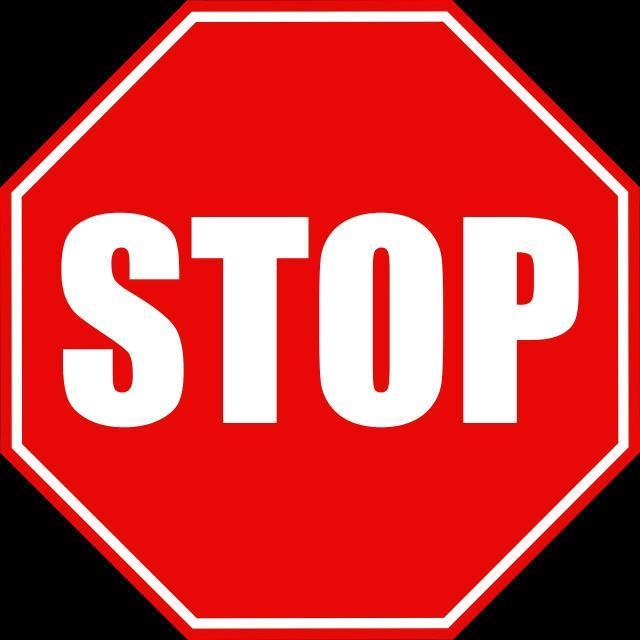stop: (26, 27, 617, 619)
